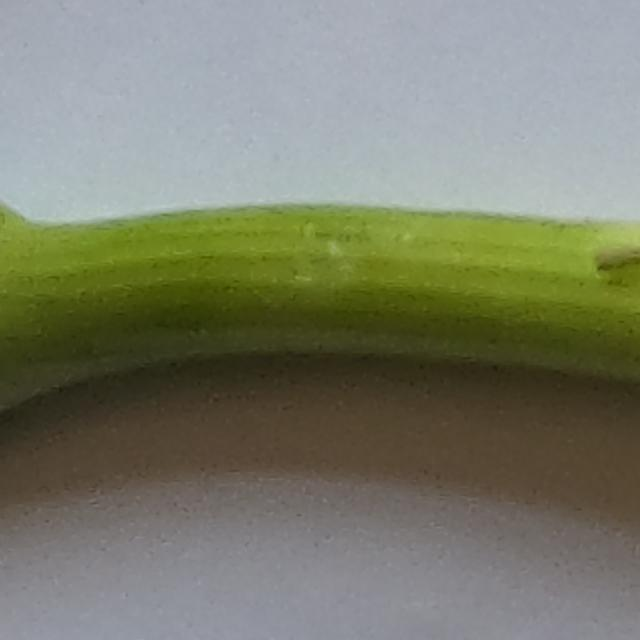green_onion: (0, 203, 640, 431)
